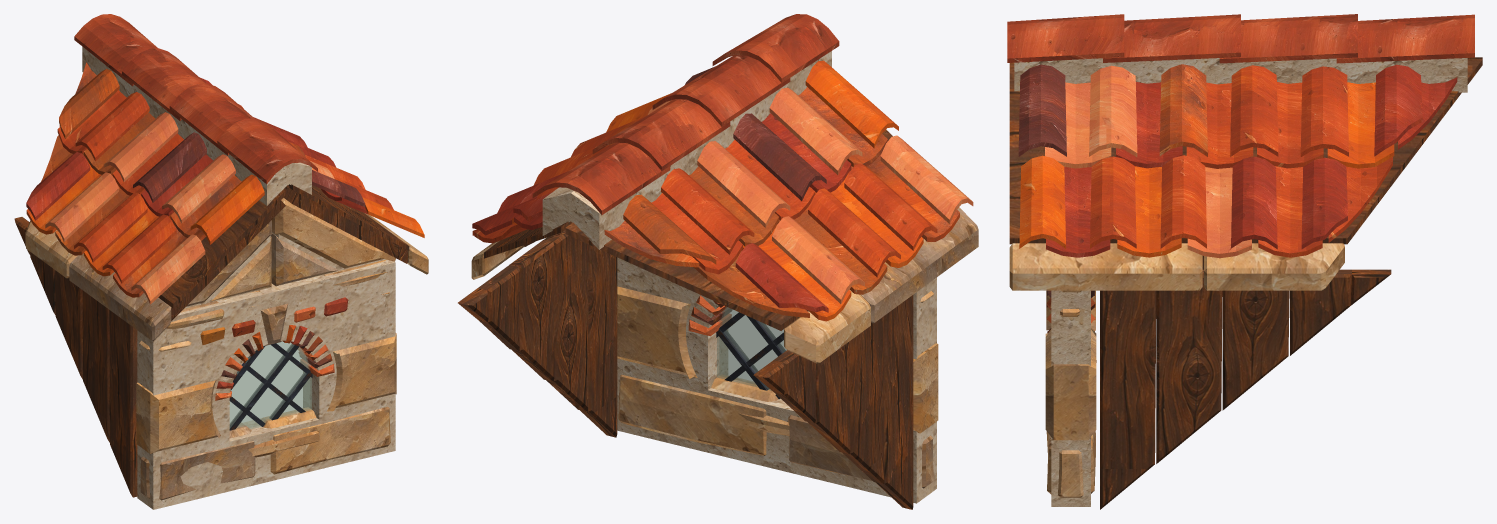
File: dormer__clay_brick.glb
3 views of the same model, side by side, from view 1: azimuth 30°, elevation 25°; view 2: azimuth 150°, elevation 25°; view 3: azimuth 270°, elevation 25° (orthographic). The views are drawn at different scales.
Parts seen in each view (by area): view 1: model; view 2: model; view 3: model.
Part boxes in pixels (x1=…): model: x1=14, y1=14, x2=428, y2=509; model: x1=458, y1=14, x2=978, y2=509; model: x1=1007, y1=14, x2=1482, y2=509.
Size of the model in its own units: 1.11 by 1.31 by 1.34.
24 materials, 23 textured.
